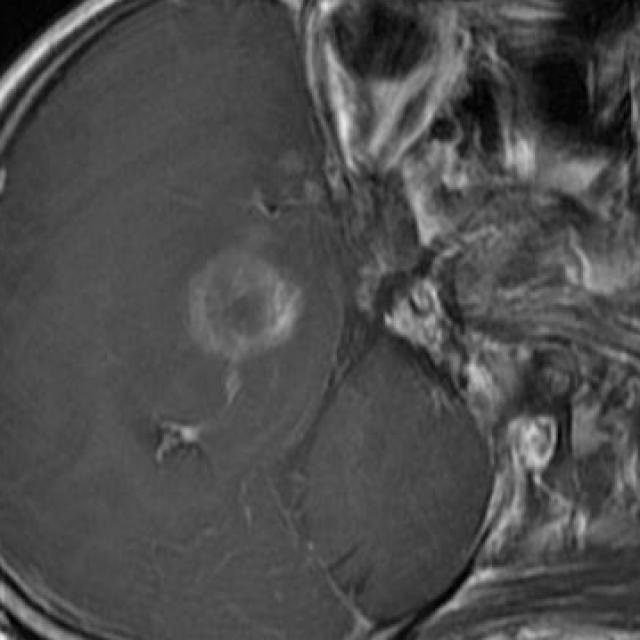glioma: (187, 152, 332, 357)
